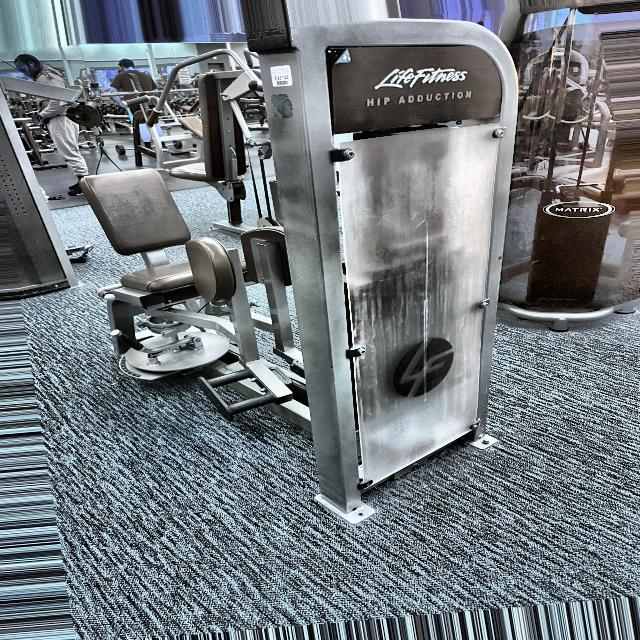hip_adduction_machine: (78, 130, 271, 435), (359, 82, 485, 132)
